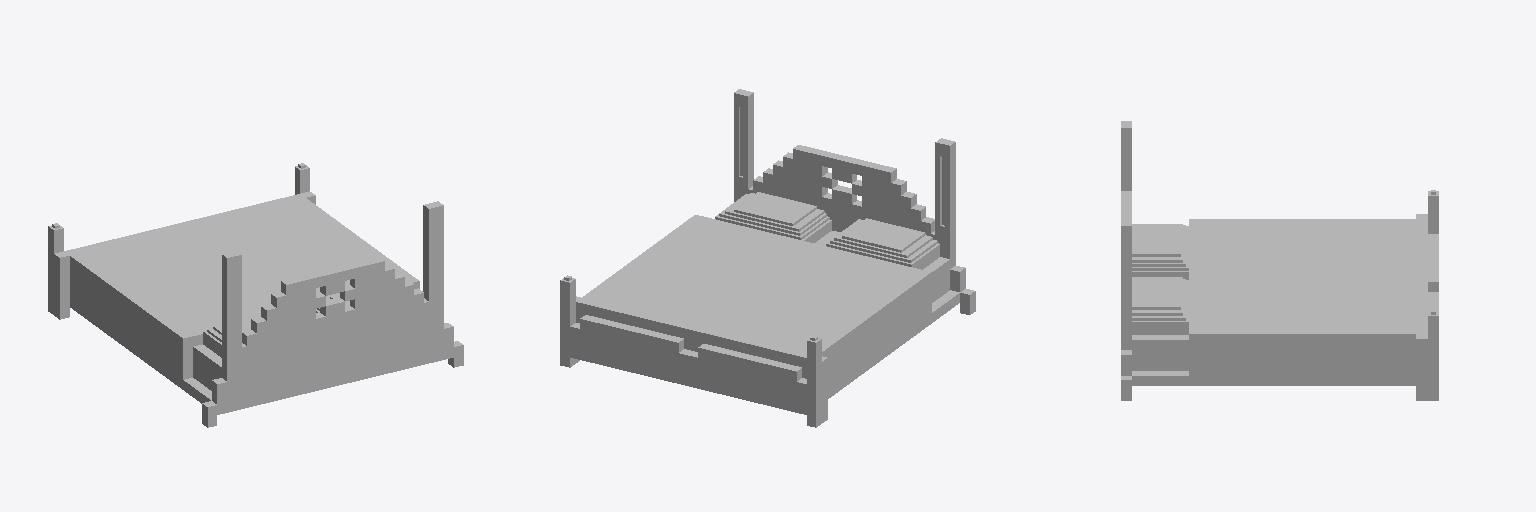
Rendered from bed.obj.
3 renders of one model, left to right at view 1: azimuth 30°, elevation 25°; view 2: azimuth 150°, elevation 25°; view 3: azimuth 270°, elevation 25°, orthographic.
Parts seen in each view (by area): view 1: object 1; view 2: object 1; view 3: object 1.
Boxes of the visible parts, box(x1,y1,x2,y2) form: object 1: box(48, 163, 463, 427); object 1: box(560, 89, 975, 427); object 1: box(1121, 121, 1438, 400).
Bounding box in the file's own units: 10.4 × 6.4 × 11.2.